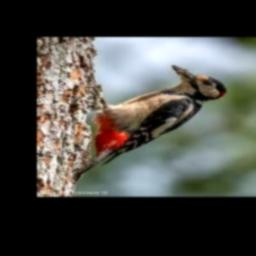Woodpecker: (73, 65, 226, 182)
